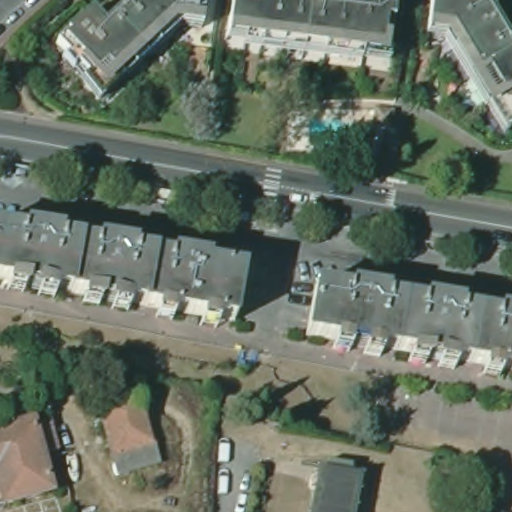pool: (309, 116, 347, 147)
